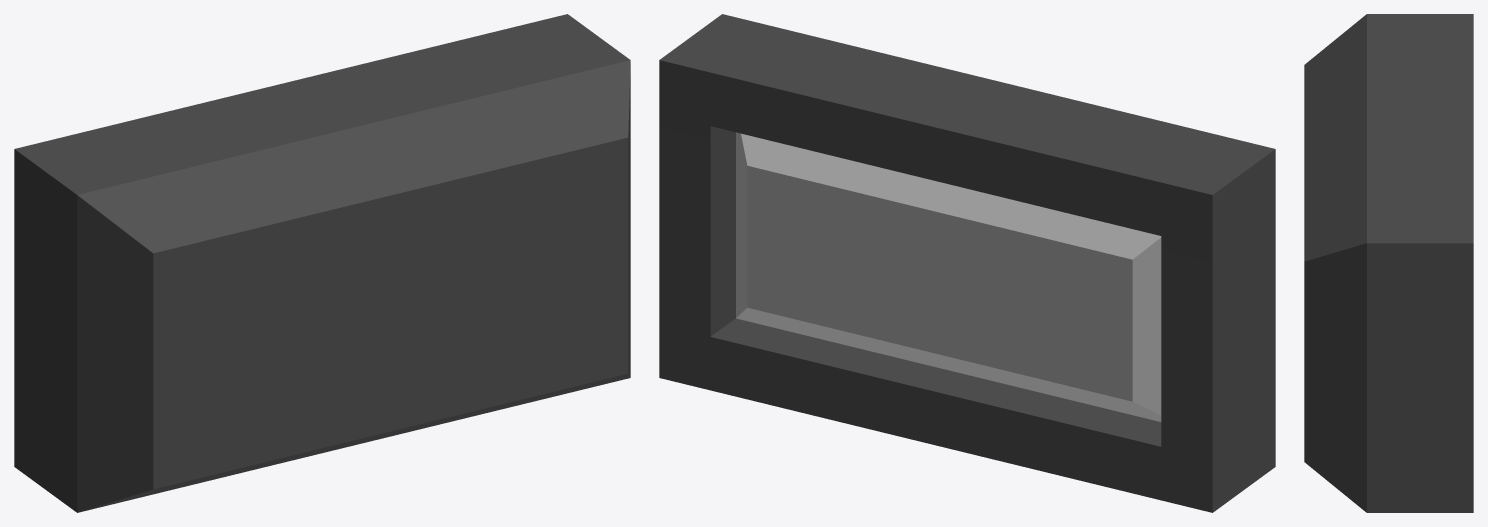
File: fisher_1_equipment_5.FBX
The picture shows the model from 3 angles, left to right: view 1: azimuth 30°, elevation 25°; view 2: azimuth 150°, elevation 25°; view 3: azimuth 270°, elevation 25°; orthographic projection. The views are drawn at different scales.
Parts seen in each view (by area): view 1: fisher_1_equipment_5; view 2: fisher_1_equipment_5; view 3: fisher_1_equipment_5.
Part boxes in pixels (left/top/right/bottom): fisher_1_equipment_5: left=14, top=14, right=630, bottom=512; fisher_1_equipment_5: left=659, top=14, right=1275, bottom=512; fisher_1_equipment_5: left=1304, top=14, right=1473, bottom=512.
Size of the model in its own units: 11.83 by 6.5 by 3.7.
